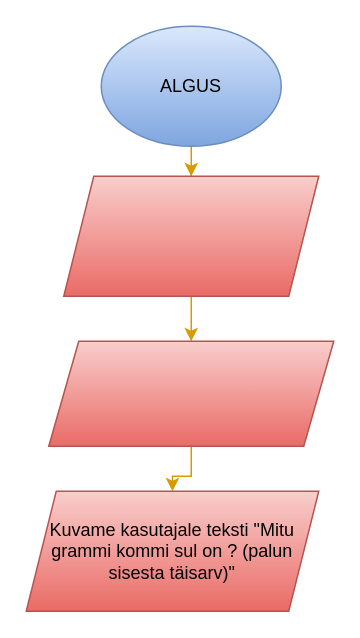
Some shapes in this 360 by 638 pixel diagram are drawn without their labels. Here are the shapes that lost their labels. From the top down, the centre of each, then its label:
(190,235): Tekitame täisarvu tüüpi muutuja "Koomikaal" millesse omastame algväärtuseks 0
(190,393): Tekitame täsarvu tüüpi muutuja millesse omastame algväärtuse 0
